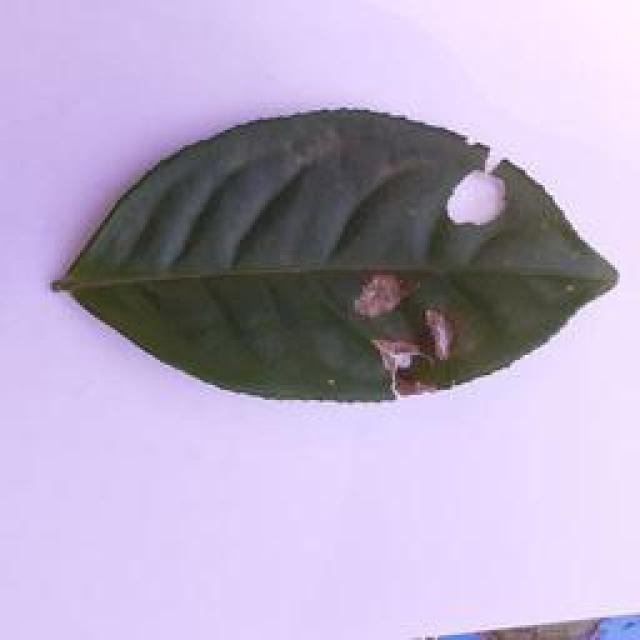Gray Blight: (12, 100, 630, 410)
